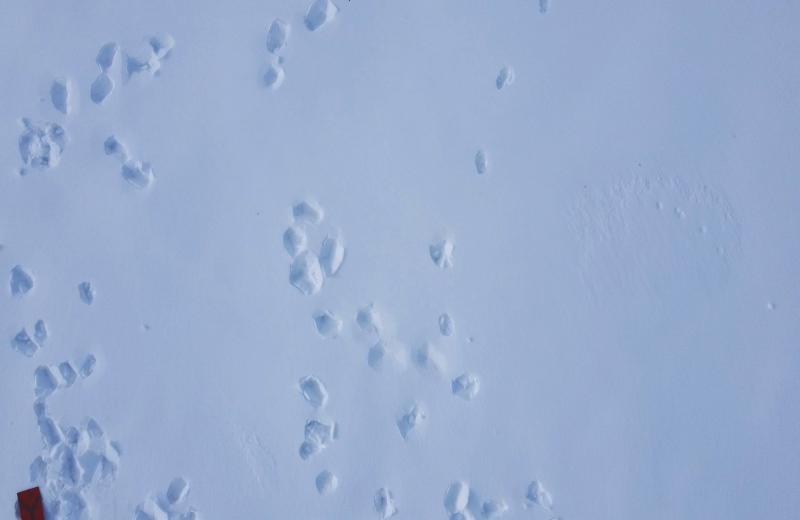Rectangle: (14, 485, 46, 520)
